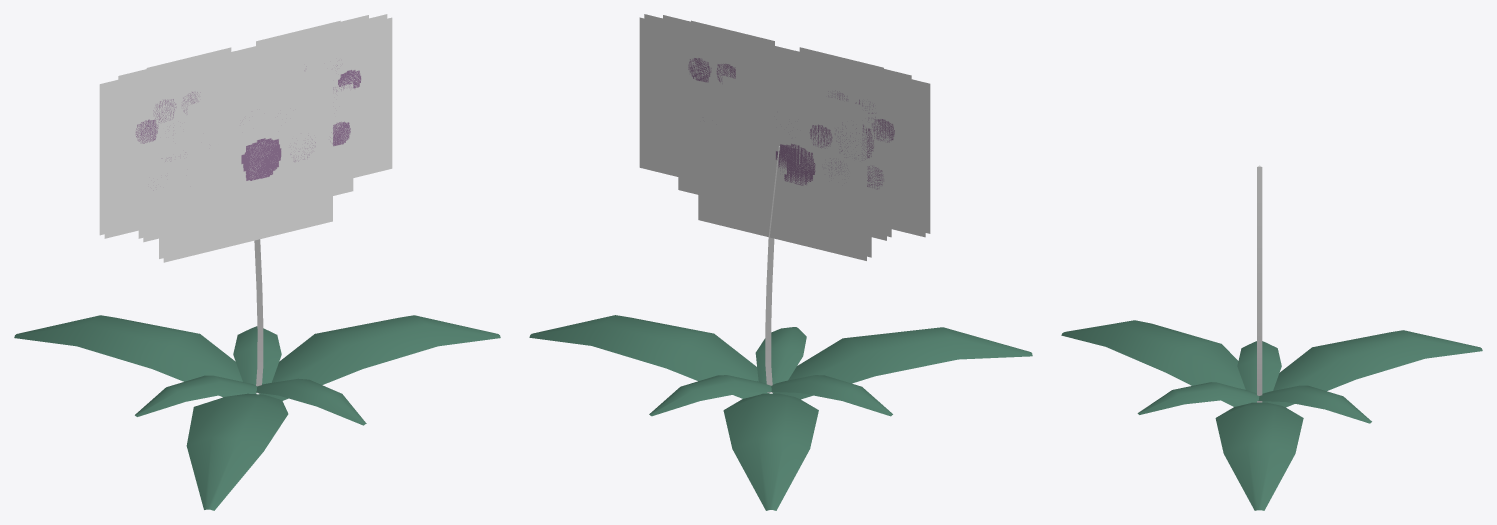
Rendered from Flower_1.fbx.
The picture shows the model from 3 angles, left to right: view 1: azimuth 30°, elevation 25°; view 2: azimuth 150°, elevation 25°; view 3: azimuth 270°, elevation 25°; orthographic projection. The views are drawn at different scales.
Visible parts, largest first — view 1: Plane037, Plane008, Plane039, Line016; view 2: Plane039, Plane008, Plane037, Line016; view 3: Plane008, Line016.
Part boxes in pixels (x1,y1,x2,y2): Plane037: (188, 14, 392, 229); Plane008: (14, 315, 500, 510); Plane039: (99, 47, 308, 262); Line016: (254, 239, 263, 393); Plane039: (722, 47, 930, 260); Plane008: (529, 315, 1032, 510); Plane037: (639, 14, 842, 255); Line016: (765, 146, 779, 392); Plane008: (1061, 320, 1482, 510); Line016: (1257, 165, 1262, 402).
Size of the model in its own units: 25.64 by 21.7 by 25.53.
